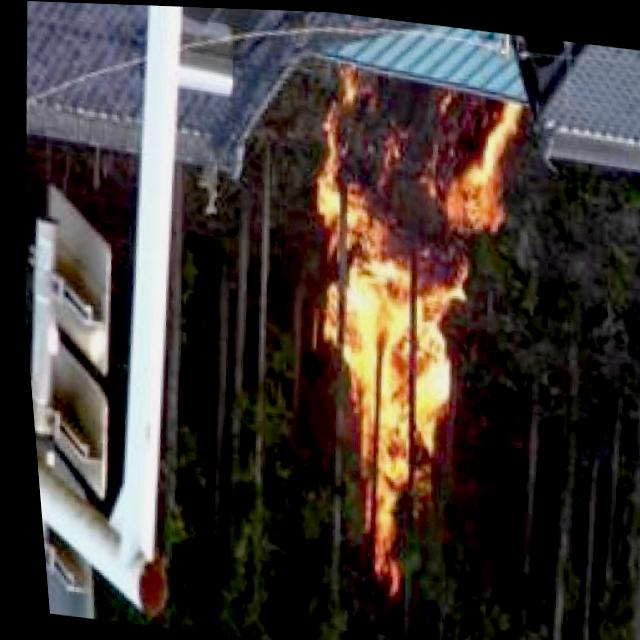helmet: (279, 60, 541, 599)
